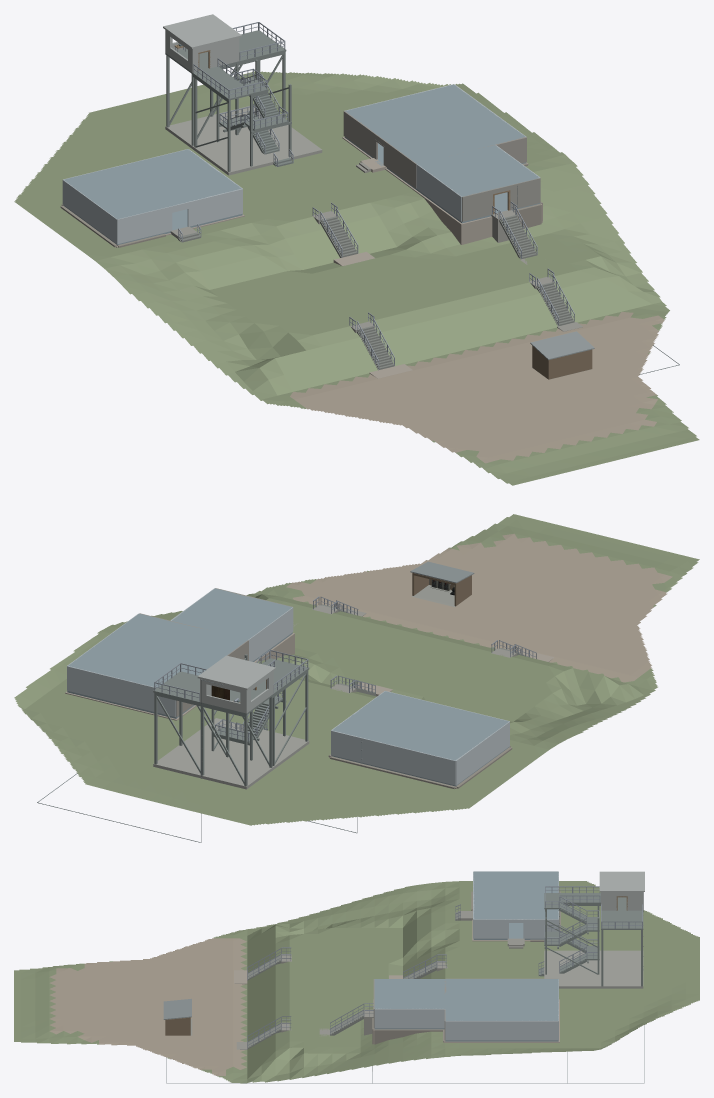
File: lookout-case.glb
3 views of the same model, one above another, from view 1: azimuth 30°, elevation 25°; view 2: azimuth 150°, elevation 25°; view 3: azimuth 270°, elevation 25° (orthographic). The views are drawn at different scales.
Parts seen in each view (by area): view 1: WLD-04 saved ground, Ceiling cap ruin, Ceiling cap hut, WLD-04 restart continuous grounded tower plinth region0, Ceiling cap store, Bayed shell Wall hut S, WLD-04 restart cab closed roof region0, Wall hut W, WLD-04 restart cab and observation deck region0, Wall store W, Lookout roadhead weather roof, WLD-04 restart west level access gallery region0 (+7 smaller); view 2: WLD-04 saved ground, Ceiling cap ruin, Ceiling cap hut, WLD-04 restart continuous grounded tower plinth region0, Ceiling cap store, Wall hut N, Wall ruin N, WLD-04 restart cab closed roof region0, Wall hut W, WLD-04 restart cab and observation deck region0, Wall store W, Lookout roadhead weather roof (+2 smaller); view 3: WLD-04 saved ground, Ceiling cap ruin, Ceiling cap hut, WLD-04 restart continuous grounded tower plinth region0, Wall ruin E, Ceiling cap store, Wall store E, WLD-04 restart cab and observation deck region0, WLD-04 restart cab closed roof region0, Flat route shell Wall hut E.001, WLD-04 restart west level access gallery region0, Flat route shell Wall hut E (+4 smaller).
Part boxes in pixels (left/top/right/bottom): WLD-04 saved ground: left=14, top=71, right=699, bottom=485; Ceiling cap ruin: left=345, top=84, right=525, bottom=163; Ceiling cap hut: left=64, top=149, right=241, bottom=219; WLD-04 restart continuous grounded tower plinth region0: left=165, top=105, right=322, bottom=175; Ceiling cap store: left=417, top=145, right=539, bottom=196; Bayed shell Wall hut S: left=117, top=188, right=242, bottom=243; WLD-04 restart cab closed roof region0: left=163, top=14, right=241, bottom=48; Wall hut W: left=62, top=179, right=117, bottom=243; WLD-04 restart cab and observation deck region0: left=165, top=30, right=286, bottom=73; Wall store W: left=416, top=164, right=461, bottom=221; Lookout roadhead weather roof: left=530, top=331, right=594, bottom=359; WLD-04 restart west level access gallery region0: left=192, top=66, right=254, bottom=100; WLD-04 saved ground: left=14, top=514, right=699, bottom=825; Ceiling cap ruin: left=68, top=613, right=247, bottom=687; Ceiling cap hut: left=332, top=691, right=508, bottom=760; WLD-04 restart continuous grounded tower plinth region0: left=153, top=718, right=309, bottom=789; Ceiling cap store: left=172, top=588, right=292, bottom=639; Wall hut N: left=331, top=730, right=455, bottom=785; Wall ruin N: left=67, top=666, right=176, bottom=717; WLD-04 restart cab closed roof region0: left=197, top=655, right=275, bottom=689; Wall hut W: left=455, top=721, right=509, bottom=785; WLD-04 restart cab and observation deck region0: left=153, top=671, right=273, bottom=714; Wall store W: left=248, top=607, right=293, bottom=661; Lookout roadhead weather roof: left=410, top=561, right=474, bottom=583; WLD-04 saved ground: left=14, top=881, right=699, bottom=1083; Ceiling cap ruin: left=445, top=979, right=558, bottom=1020; Ceiling cap hut: left=473, top=871, right=558, bottom=919; WLD-04 restart continuous grounded tower plinth region0: left=544, top=950, right=643, bottom=988; Wall ruin E: left=445, top=1021, right=558, bottom=1040; Ceiling cap store: left=374, top=979, right=445, bottom=1008; Wall store E: left=374, top=1008, right=444, bottom=1028; WLD-04 restart cab and observation deck region0: left=601, top=897, right=643, bottom=929; WLD-04 restart cab closed roof region0: left=599, top=871, right=644, bottom=891; Flat route shell Wall hut E.001: left=473, top=919, right=508, bottom=938; WLD-04 restart west level access gallery region0: left=544, top=893, right=600, bottom=903; Flat route shell Wall hut E: left=523, top=919, right=558, bottom=938.
Bounding box in the file's own units: 59 × 20.43 × 97.
Materials: 100 (77 with a texture image).
